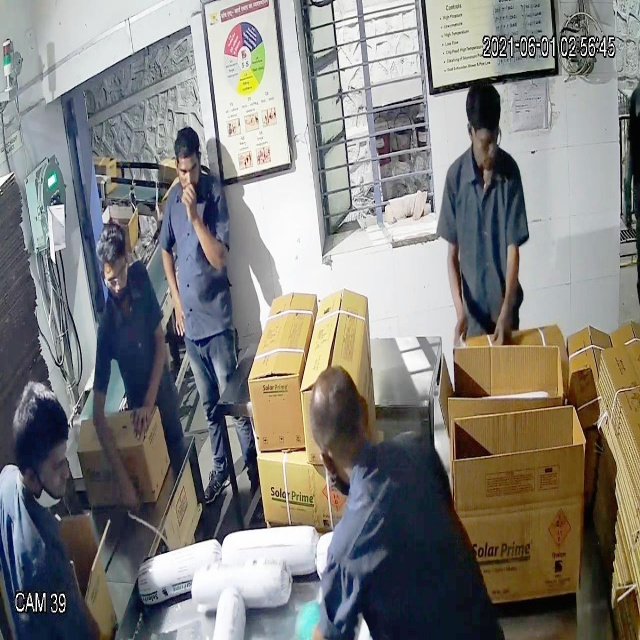Gafas: (98, 252, 132, 296)
